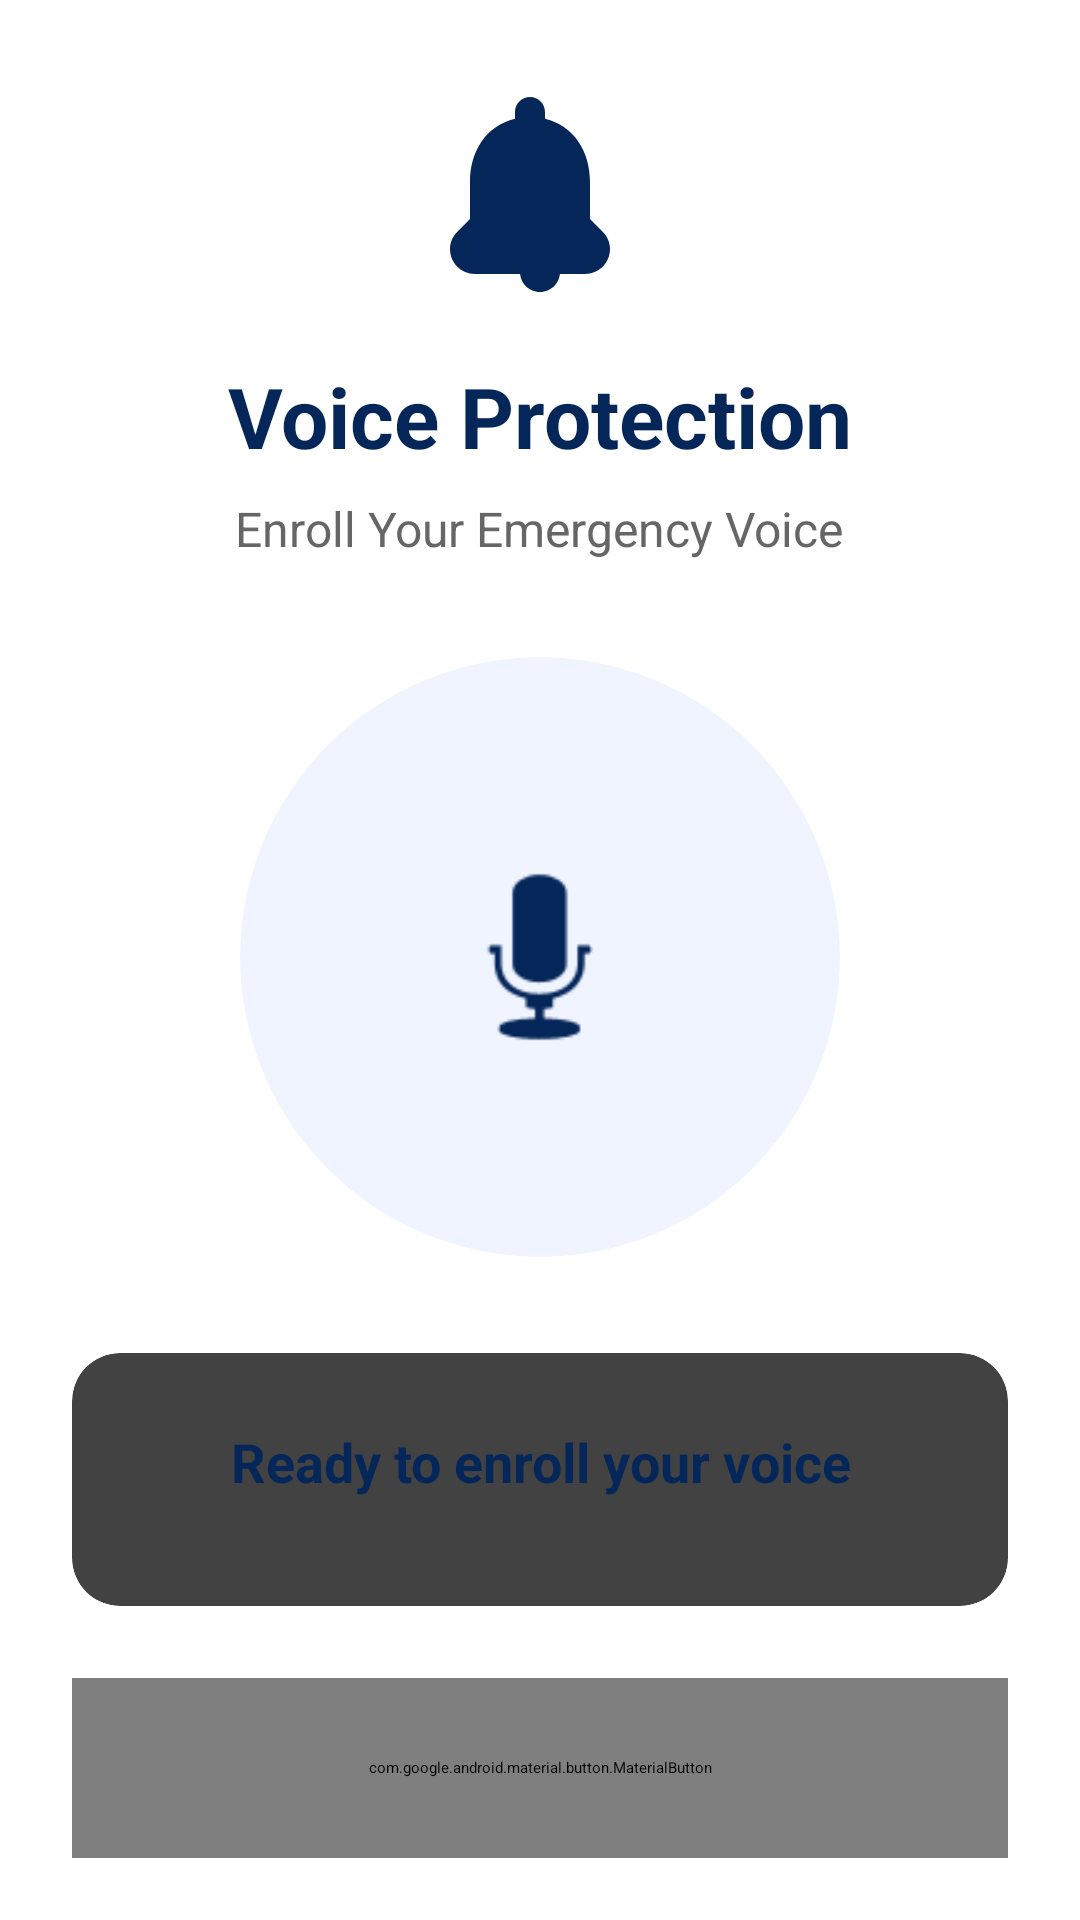

Named icons in this screenshot (1080px×1920px) and their bounding boxes, detection(x1, y1, x2, y2):
speak now: detection(487, 874, 593, 1040)
